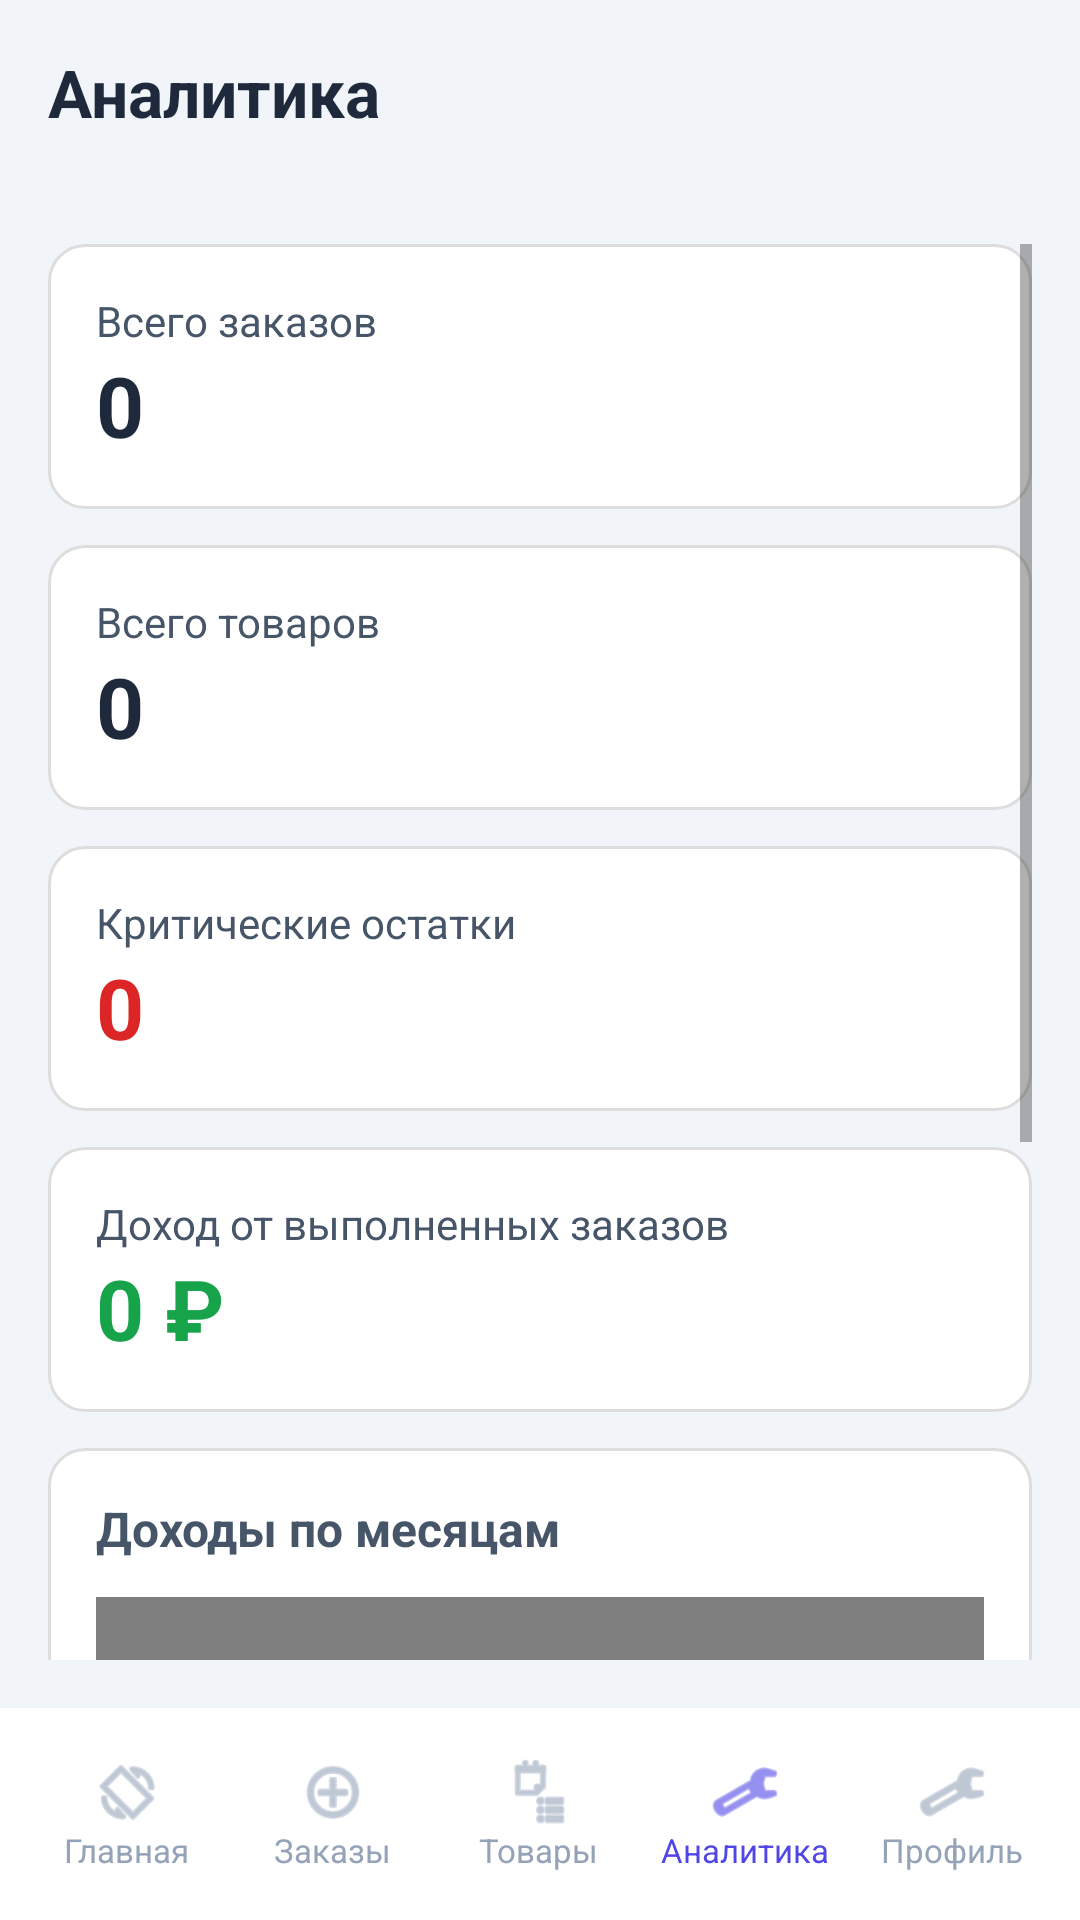

Point at icon controls on the screen. Image size 1080×1920, points as [x,y].
add: [333,1792]
agenda: [539,1791]
always landscape portrait: [127,1792]
manage: [745,1792]
preferences: [952,1792]
